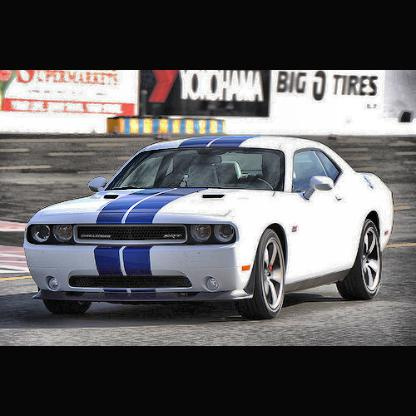Dodge Challenger SRT8 2011: (25, 138, 394, 316)
